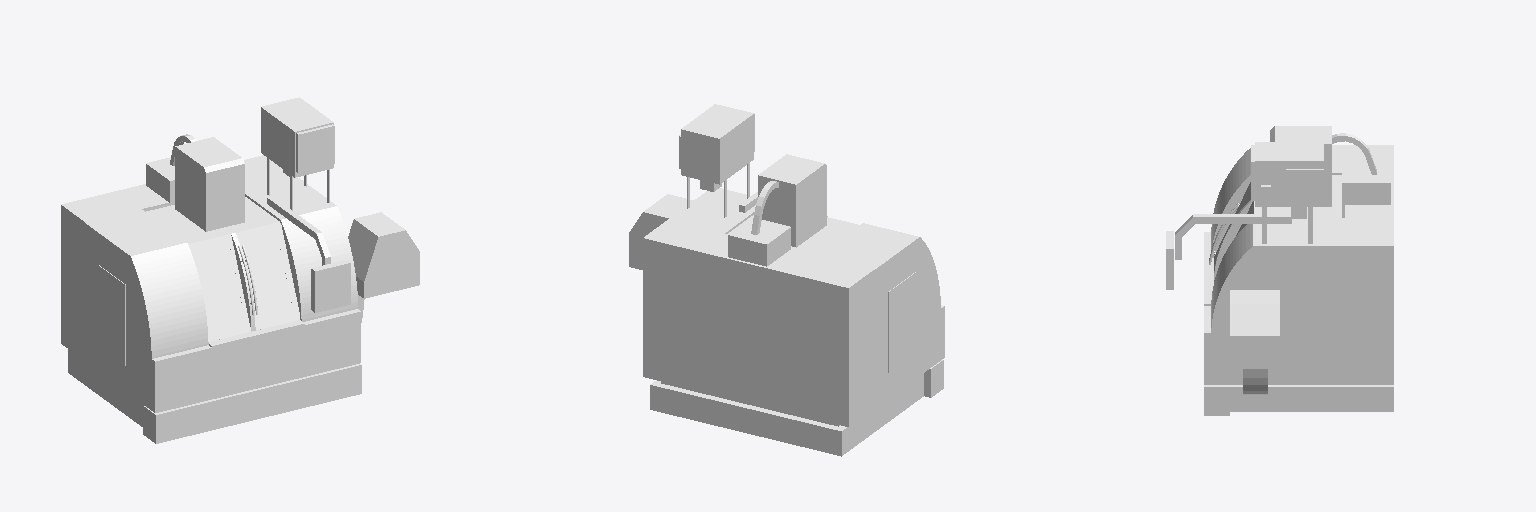
3 views of the same model, side by side, from view 1: azimuth 30°, elevation 25°; view 2: azimuth 150°, elevation 25°; view 3: azimuth 270°, elevation 25° (orthographic).
Visible parts, largest first — view 1: _020bl, _020bi, _020sott, _020r, _020moto, _020vet3, _020vet4, _020moni, _020base, _020vet1, _020bmot, _020tapp; view 2: _020bi, _020base, _020bl, _020moto, _020sott, _020r, _020vet1, _020bmot; view 3: _020bi, _020bl, _020base, _020r, _020moto, _020vet2, _020sott, _020logo, _020r1, _020bmot.
Boxes of the visible parts, <box> form: _020bl: <box>98,137,361,443</box>; _020bi: <box>61,155,357,410</box>; _020sott: <box>87,209,208,358</box>; _020r: <box>348,212,419,298</box>; _020moto: <box>261,97,334,173</box>; _020vet3: <box>193,244,245,333</box>; _020vet4: <box>241,232,293,321</box>; _020moni: <box>311,260,350,312</box>; _020base: <box>68,349,143,426</box>; _020vet1: <box>101,279,122,352</box>; _020bmot: <box>261,149,333,210</box>; _020tapp: <box>209,320,304,347</box>; _020bi: <box>643,188,940,426</box>; _020base: <box>650,373,923,456</box>; _020bl: <box>758,154,944,397</box>; _020moto: <box>679,104,754,180</box>; _020sott: <box>818,223,917,269</box>; _020r: <box>629,194,693,269</box>; _020vet1: <box>892,287,912,359</box>; _020bmot: <box>681,156,753,217</box>; _020bi: <box>1175,145,1393,384</box>; _020bl: <box>1204,126,1331,415</box>; _020base: <box>1230,385,1393,411</box>; _020r: <box>1230,290,1279,368</box>; _020moto: <box>1251,142,1323,202</box>; _020vet2: <box>1271,288,1310,349</box>; _020sott: <box>1211,145,1344,257</box>; _020logo: <box>1286,170,1323,201</box>; _020r1: <box>1243,369,1267,394</box>; _020bmot: <box>1255,203,1323,243</box>.
Size of the model in its own units: 346 by 301 by 246.